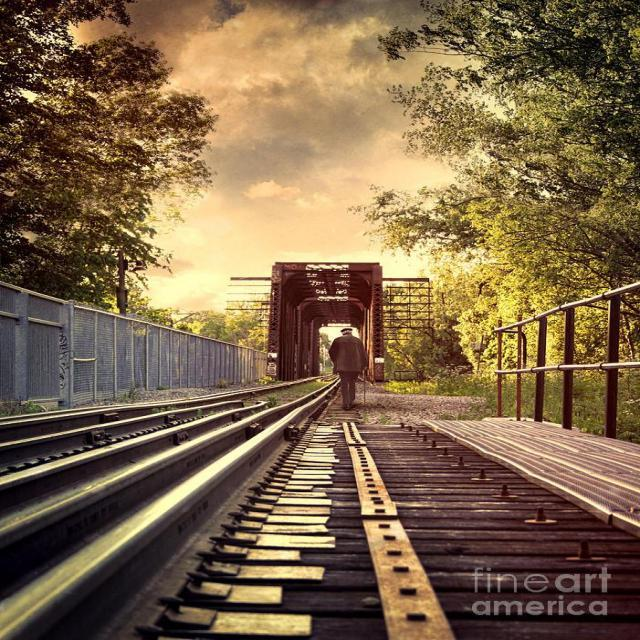danger: (324, 325, 370, 418)
rail: (0, 370, 356, 640)
